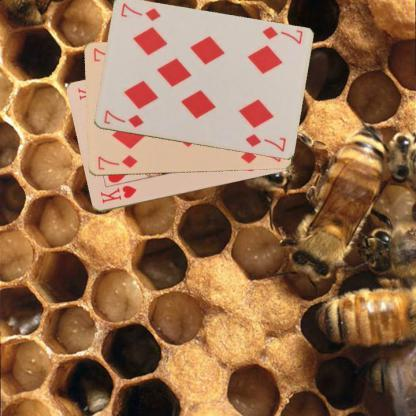7d: (259, 23, 304, 46), (101, 107, 145, 130), (95, 152, 139, 172)
Kh: (97, 182, 138, 204)
